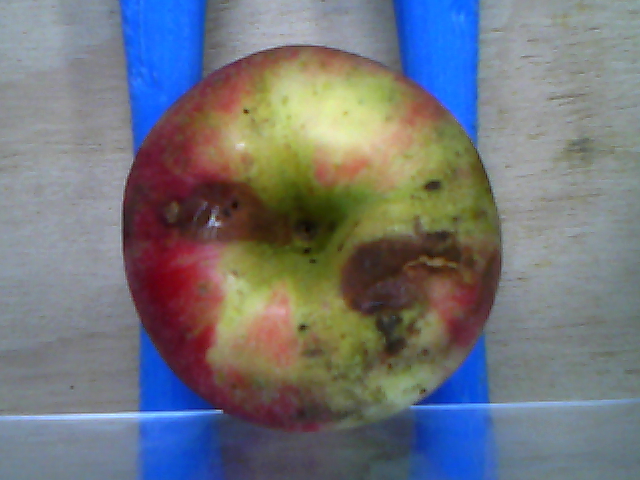bruise: (334, 235, 472, 311), (179, 180, 298, 248)
